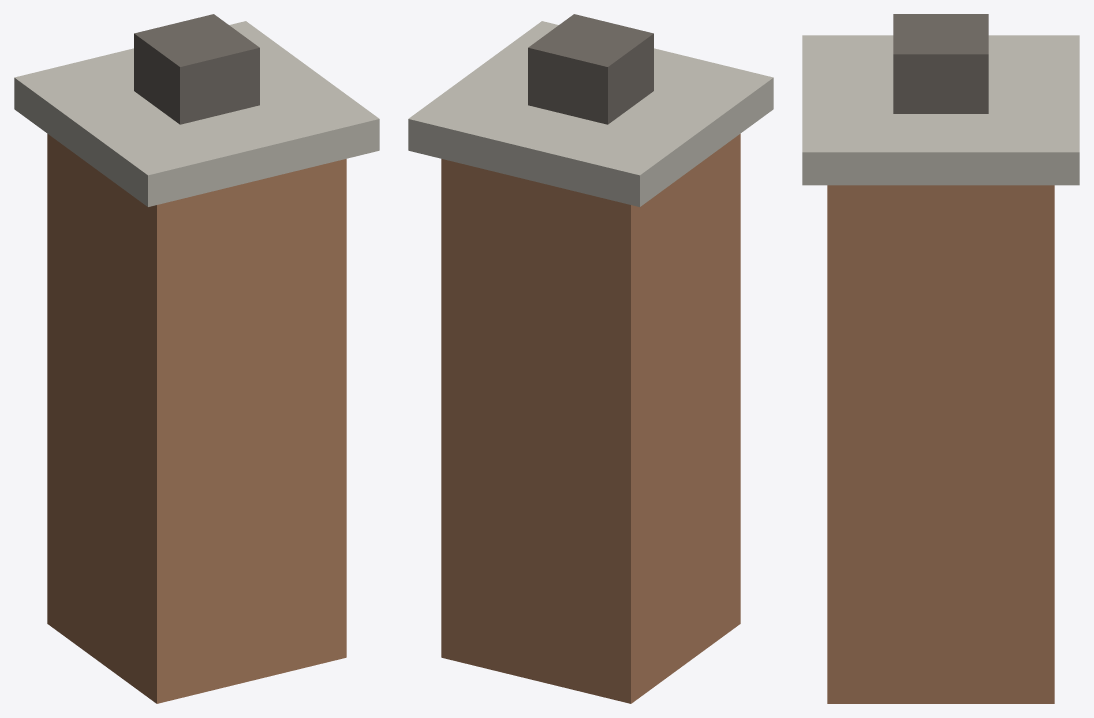
3 renders of one model, left to right at view 1: azimuth 30°, elevation 25°; view 2: azimuth 150°, elevation 25°; view 3: azimuth 270°, elevation 25°, orthographic. The views are drawn at different scales.
Parts seen in each view (by area): view 1: QH-A0067_V02_geometry; view 2: QH-A0067_V02_geometry; view 3: QH-A0067_V02_geometry.
Boxes of the visible parts, box(x1,y1,x2,y2) form: QH-A0067_V02_geometry: box(14, 14, 379, 703); QH-A0067_V02_geometry: box(408, 14, 773, 703); QH-A0067_V02_geometry: box(802, 14, 1079, 703).
Size of the model in its own units: 1.22 by 3.02 by 1.22.
